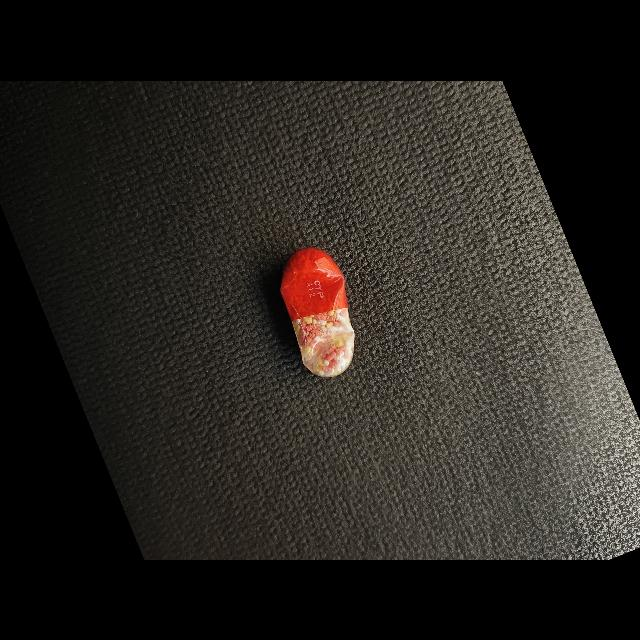Defective Capsule: (280, 247, 355, 377)
